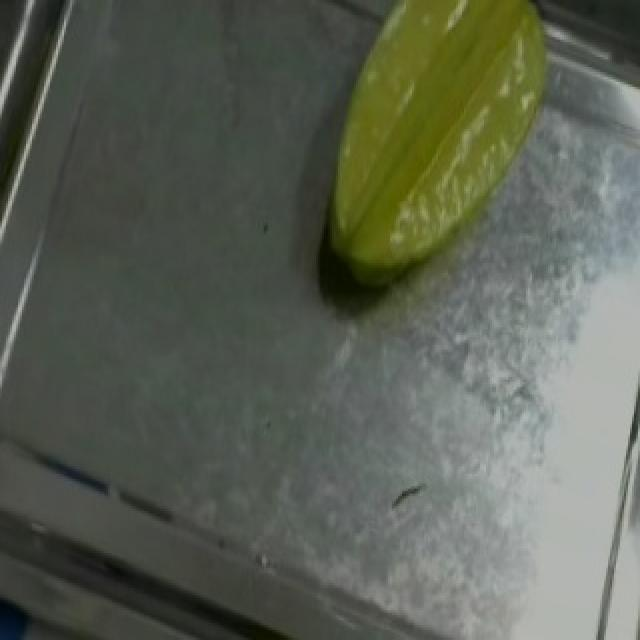fruit: (294, 0, 580, 305)
